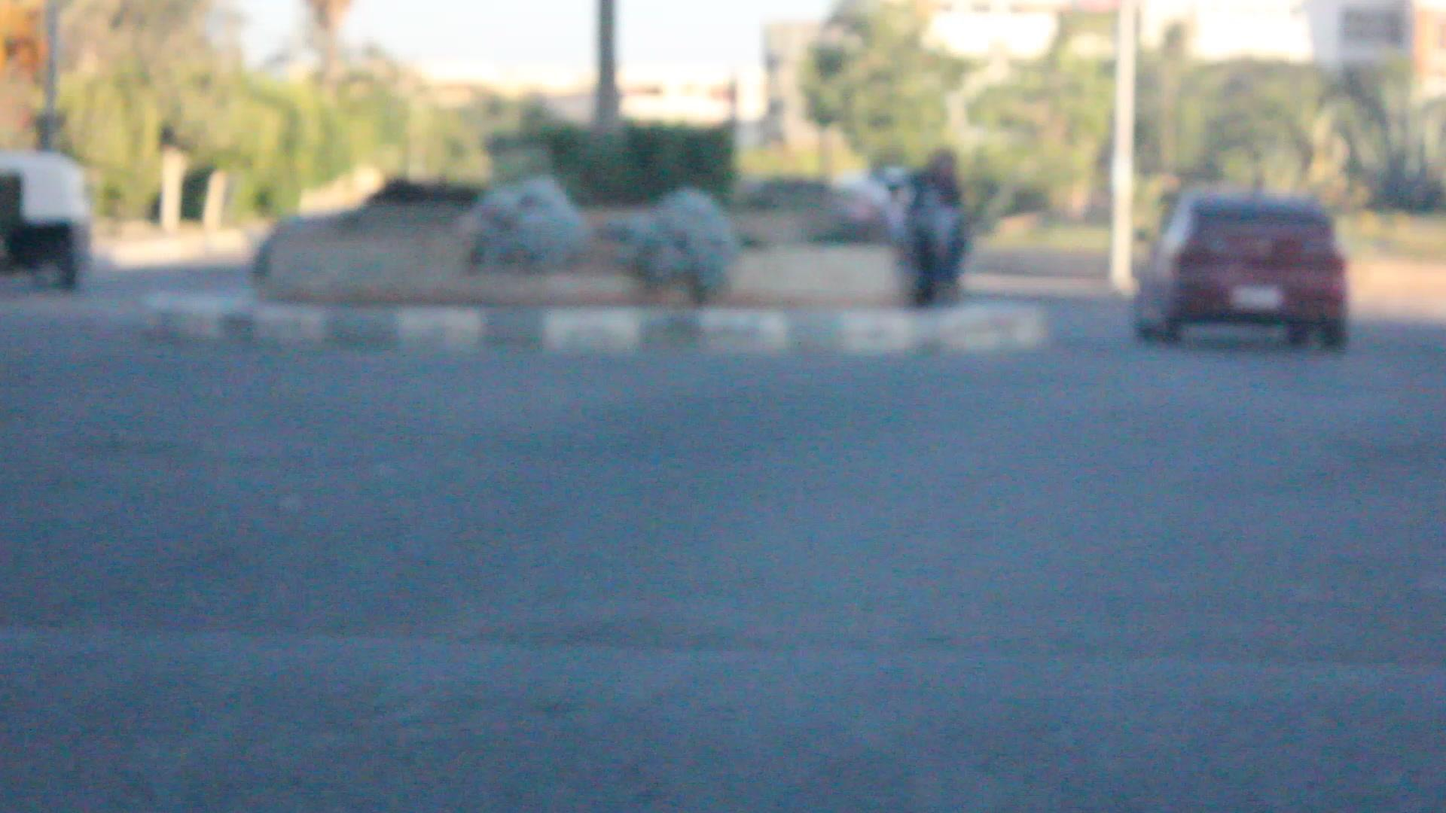Bump: (0, 612, 1446, 813)
